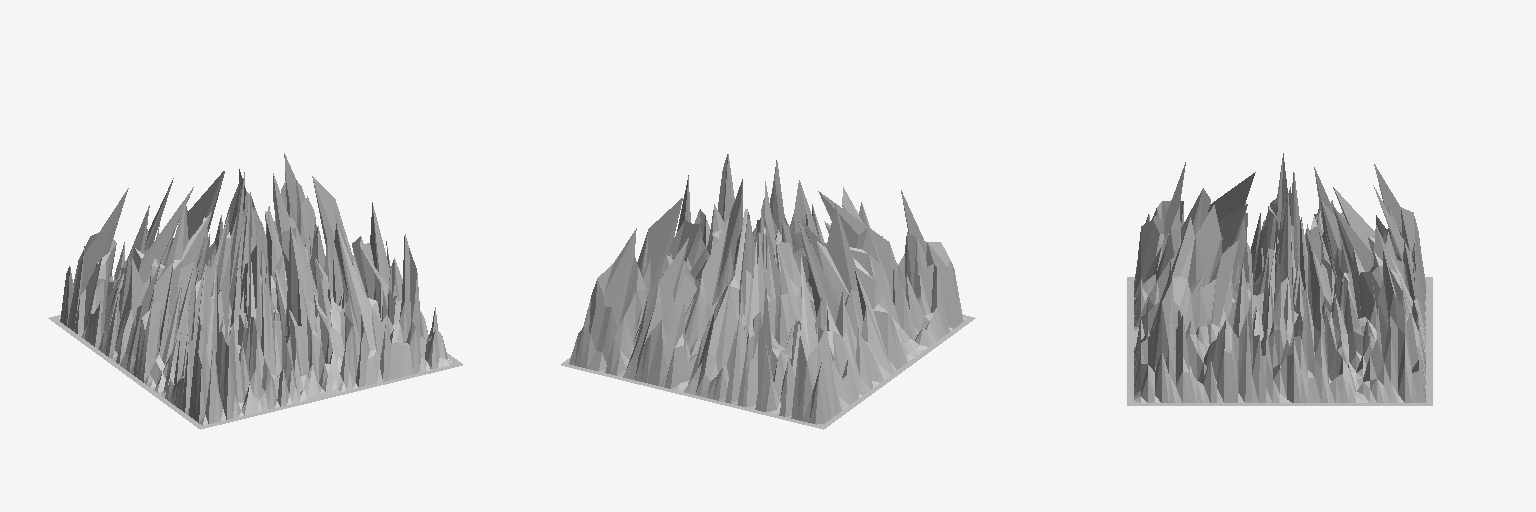
Rendered from SM_EspinhosP.obj.
The picture shows the model from 3 angles: view 1: azimuth 30°, elevation 25°; view 2: azimuth 150°, elevation 25°; view 3: azimuth 270°, elevation 25°; orthographic projection.
Parts seen in each view (by area): view 1: Espinhos_Plane.006; view 2: Espinhos_Plane.006; view 3: Espinhos_Plane.006.
Part boxes in pixels (bbox=[...]): Espinhos_Plane.006: bbox=[48, 153, 462, 429]; Espinhos_Plane.006: bbox=[561, 154, 975, 429]; Espinhos_Plane.006: bbox=[1127, 153, 1432, 405].
Size of the model in its own units: 2 by 1.24 by 2.